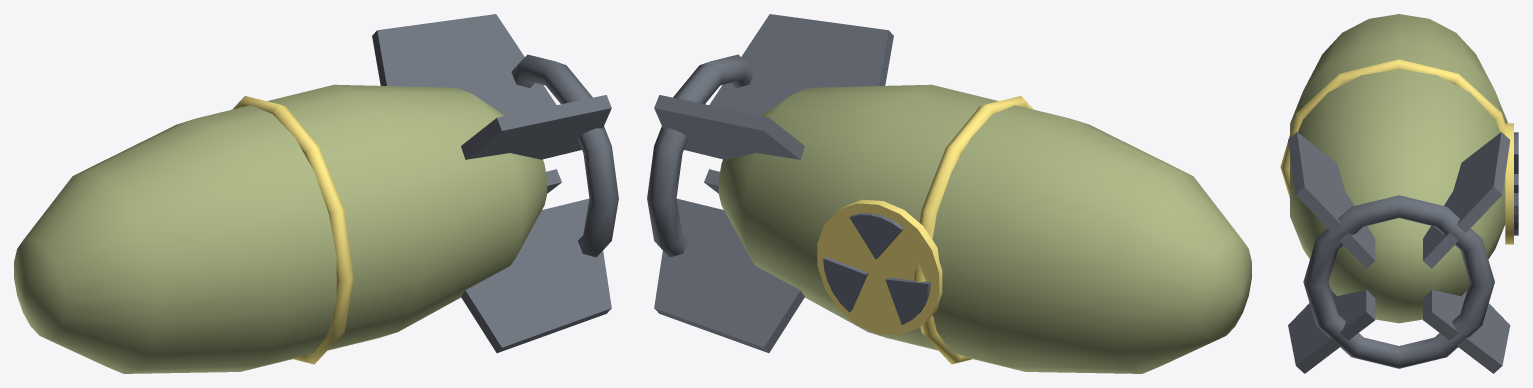
File: BasicNuke.fbx
3 renders of one model, left to right at view 1: azimuth 30°, elevation 25°; view 2: azimuth 150°, elevation 25°; view 3: azimuth 270°, elevation 25°, orthographic. The views are drawn at different scales.
Parts seen in each view (by area): view 1: nuke; view 2: nuke; view 3: nuke.
Boxes of the visible parts, left/top/right/bottom form: nuke: left=14, top=14, right=618, bottom=373; nuke: left=647, top=14, right=1251, bottom=373; nuke: left=1280, top=14, right=1518, bottom=373.
Bounding box in the file's own units: 1.08 × 0.4708 × 0.472.
